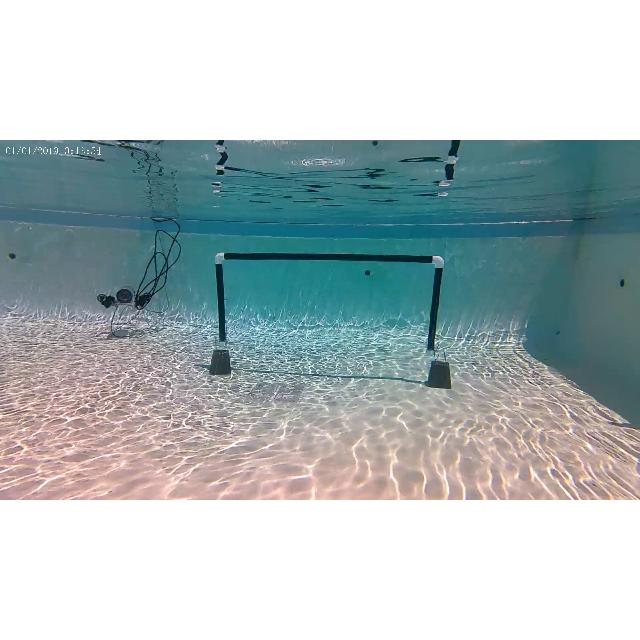prequal gate: (216, 252, 447, 348)
prequal gate leg l: (211, 250, 233, 354)
prequal gate leg r: (426, 250, 448, 362)
